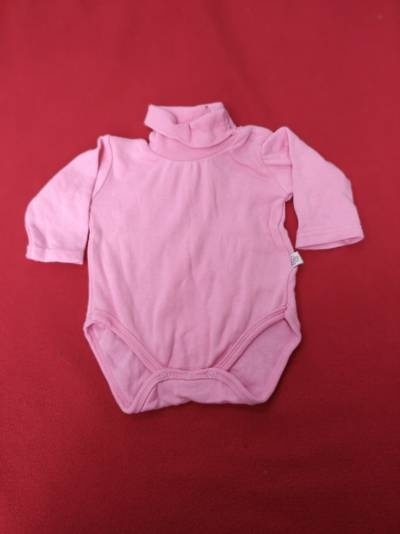Body: (26, 78, 356, 443)
